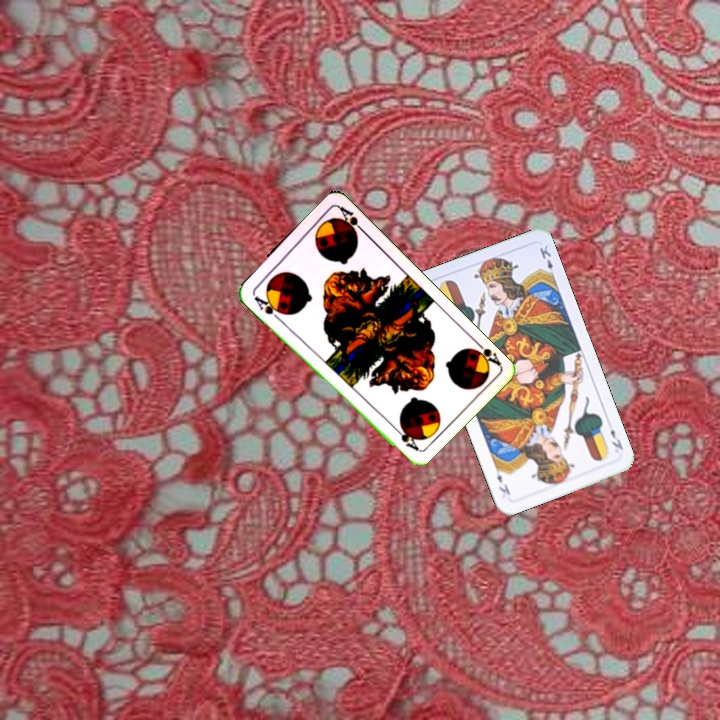EK: (606, 425, 626, 452)
SA: (464, 336, 503, 372), (249, 290, 286, 322)
